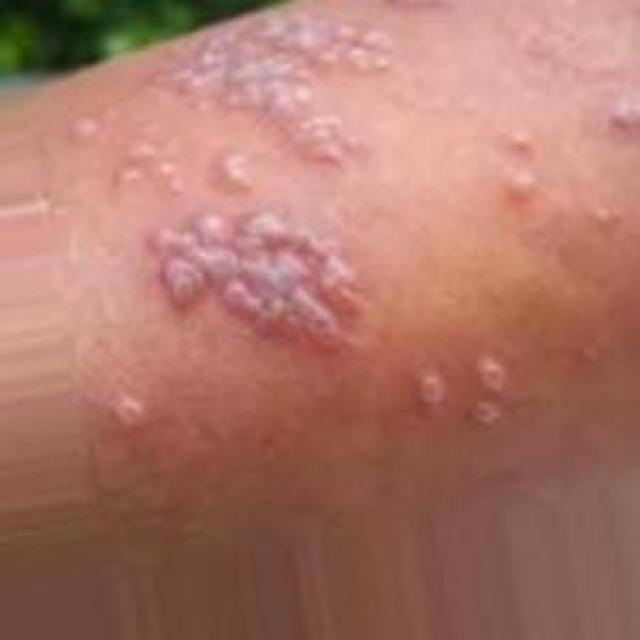Shingles: (169, 16, 397, 194), (146, 212, 363, 351), (418, 354, 503, 428)
